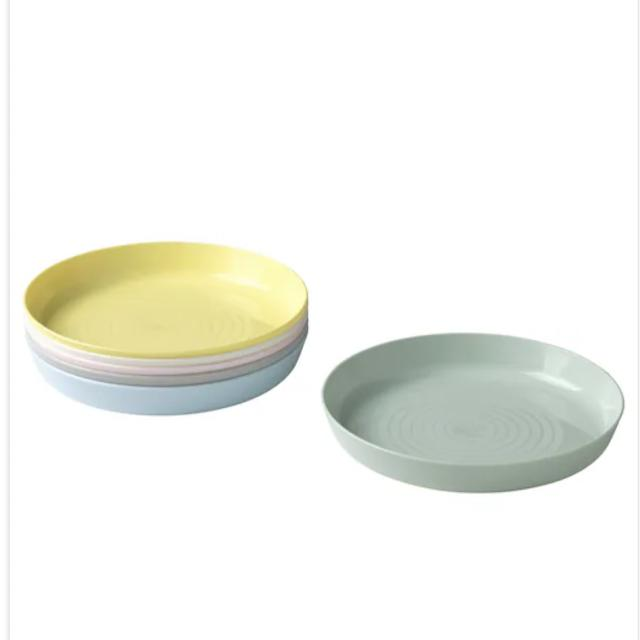recyclable: (309, 305, 630, 507), (19, 232, 314, 422)
